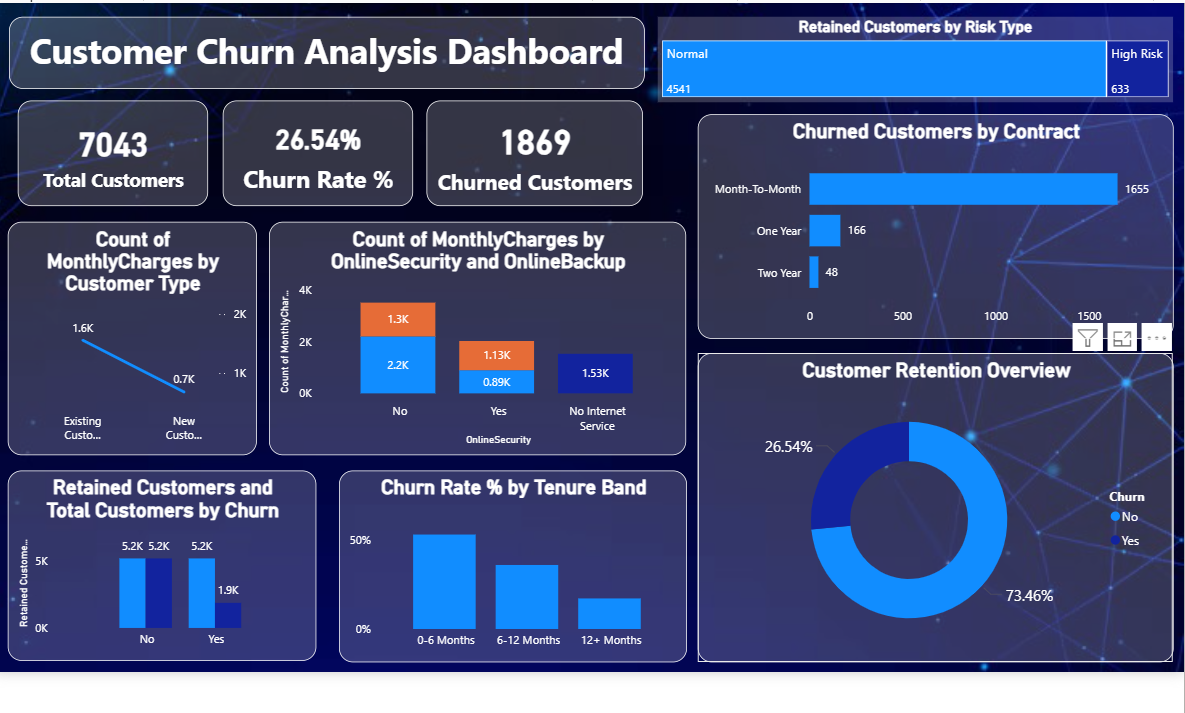

The page's visual inventory and layout, read from the dashboard file:
{"tool":"powerbi","page":{"name":"Page 1","canvas":[1280,720],"ordinal":0},"visuals":[{"type":"textbox","box":[15.8,14.3,683.7,77.4],"z":0},{"type":"treemap","fields":{"Values":["Calculated Measure.Retained Customers"],"Group":["telco_churn_unclean.Risk Type"]},"box":[713.8,14.3,554.7,91.7],"z":1},{"type":"card","fields":{"Values":["Calculated Measure.Total Customers"]},"box":[25.3,105.3,204.9,113.7],"z":2},{"type":"card","fields":{"Values":["Calculated Measure.Churn Rate %"]},"box":[245.6,105.3,204.9,113.7],"z":3},{"type":"card","fields":{"Values":["Calculated Measure.Churned Customers"]},"box":[466,105.3,233,113.7],"z":4},{"type":"donutChart","title":"Customer Retention Overview","fields":{"Y":["Calculated Measure.Total Customers"],"Category":["telco_churn_unclean.Churn"]},"box":[756.5,376.1,512.3,332.6],"z":5},{"type":"barChart","fields":{"Category":["telco_churn_unclean.Contract"],"Y":["Calculated Measure.Churned Customers"]},"box":[756.5,119.3,512.3,241.4],"z":6},{"type":"columnChart","fields":{"Category":["telco_churn_unclean.OnlineSecurity"],"Y":["CountNonNull(telco_churn_unclean.MonthlyCharges)"],"Series":["telco_churn_unclean.OnlineBackup"]},"box":[296.1,235.8,449.1,251.2],"z":7},{"type":"columnChart","fields":{"Category":["telco_churn_unclean.Tenure Band"],"Y":["Calculated Measure.Churn Rate %"]},"box":[370.5,502.5,374.7,206.3],"z":8},{"type":"clusteredColumnChart","fields":{"Category":["telco_churn_unclean.Churn"],"Y":["Calculated Measure.Retained Customers","Calculated Measure.Total Customers"]},"box":[15.4,502.5,332.2,205.2],"z":9},{"type":"lineChart","fields":{"Category":["telco_churn_unclean.Customer Type"],"Y2":["Count(telco_churn_unclean.MonthlyCharges)"]},"box":[15.4,235.9,268,251.3],"z":10}]}

Visuals, with their boxes in screenshot pixels (x1, y1, x2, y2):
textbox: rect(0, 10, 641, 84)
treemap - Calculated Measure.Retained Customers x telco_churn_unclean.Risk Type: rect(654, 10, 1179, 97)
card - Calculated Measure.Total Customers: rect(2, 97, 196, 204)
card - Calculated Measure.Churn Rate %: rect(211, 97, 405, 204)
card - Calculated Measure.Churned Customers: rect(419, 97, 640, 204)
"Customer Retention Overview" donutChart: rect(694, 353, 1179, 668)
barChart - telco_churn_unclean.Contract x Calculated Measure.Churned Customers: rect(694, 110, 1179, 338)
columnChart - telco_churn_unclean.OnlineSecurity x CountNonNull(telco_churn_unclean.MonthlyCharges): rect(259, 220, 684, 458)
columnChart - telco_churn_unclean.Tenure Band x Calculated Measure.Churn Rate %: rect(329, 473, 684, 668)
clusteredColumnChart - telco_churn_unclean.Churn x Calculated Measure.Retained Customers: rect(0, 473, 307, 667)
lineChart - telco_churn_unclean.Customer Type x Count(telco_churn_unclean.MonthlyCharges): rect(0, 220, 247, 458)
